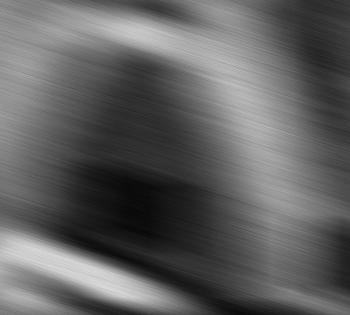Airbag: (0, 0, 350, 314), (328, 0, 350, 314), (0, 307, 350, 315)
